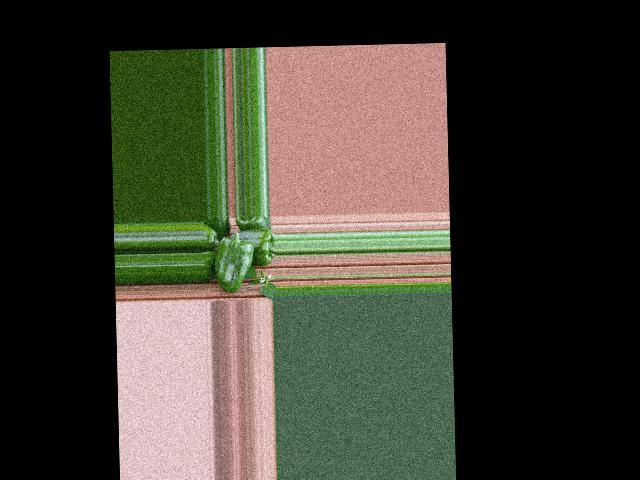bell_pepper: (201, 220, 220, 246)
